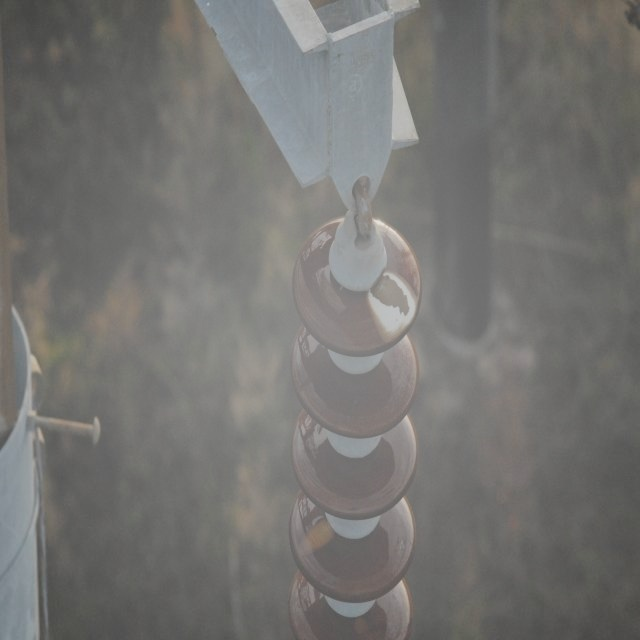insulator: (288, 216, 424, 640)
